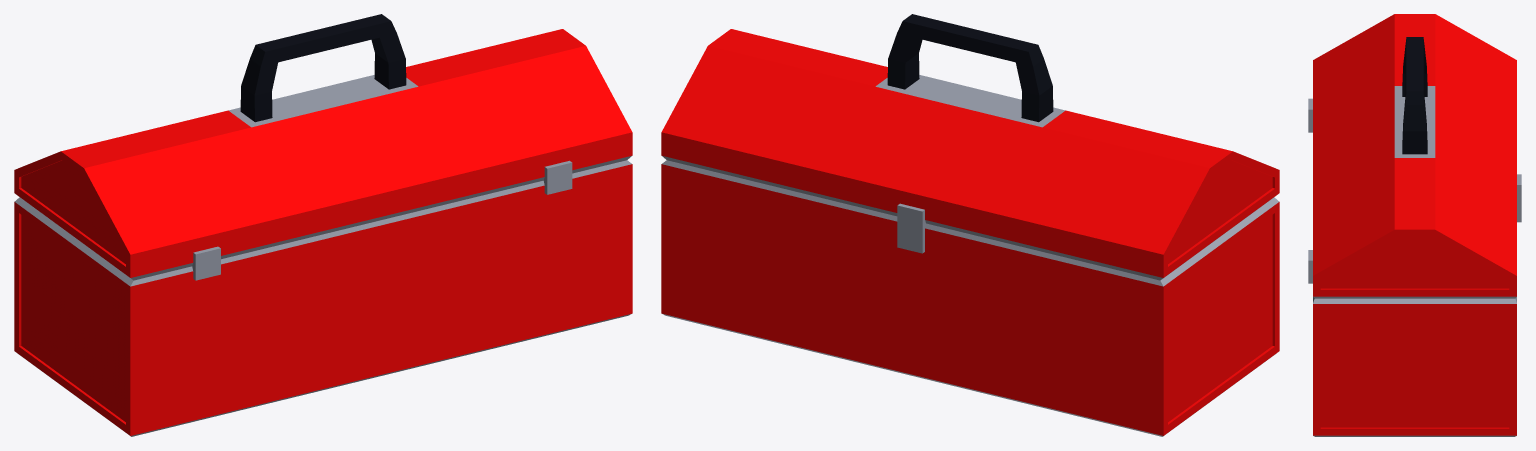
Rendered from toolbox.glb.
3 renders of one model, left to right at view 1: azimuth 30°, elevation 25°; view 2: azimuth 150°, elevation 25°; view 3: azimuth 270°, elevation 25°, orthographic. The views are drawn at different scales.
Visible parts, largest first — view 1: ToolBox; view 2: ToolBox; view 3: ToolBox.
Boxes of the visible parts, left/top/right/bottom form: ToolBox: left=14, top=14, right=632, bottom=436; ToolBox: left=661, top=14, right=1279, bottom=436; ToolBox: left=1308, top=14, right=1521, bottom=436.
Size of the model in its own units: 2 by 1.15 by 0.8351.
Materials: 1 (1 with a texture image).
